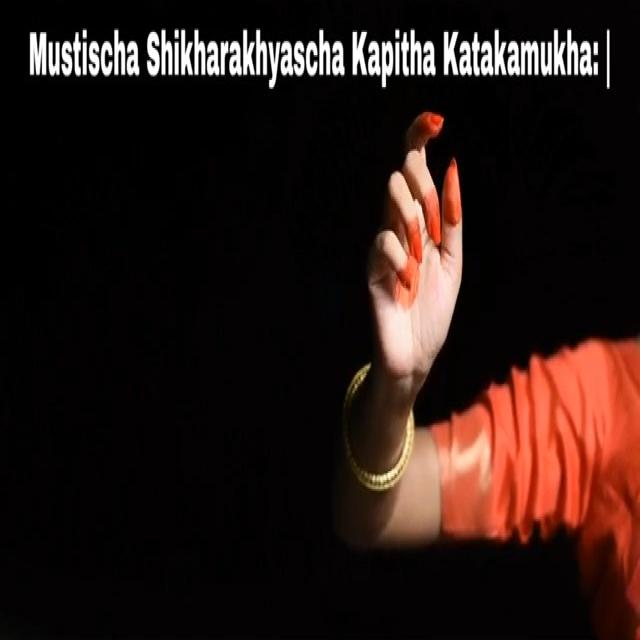Kapittha: (350, 111, 490, 398)
bangle: (327, 408, 427, 505)
text: (25, 17, 624, 101)
